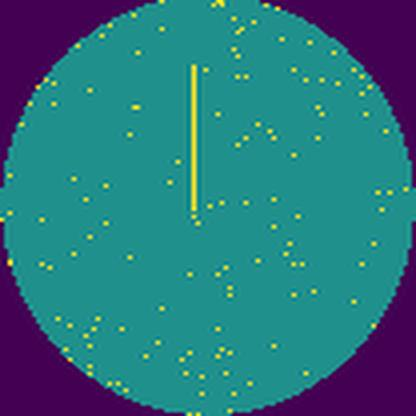Scratch: (180, 56, 205, 227)
